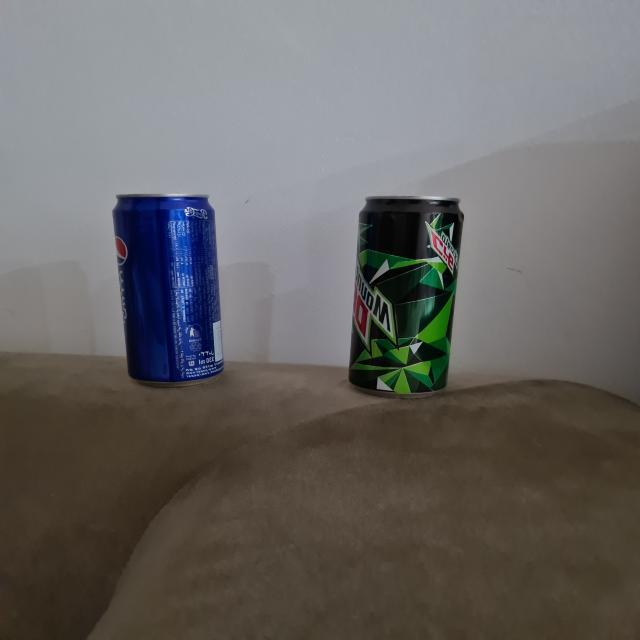can: (335, 189, 472, 401), (100, 188, 227, 389)
